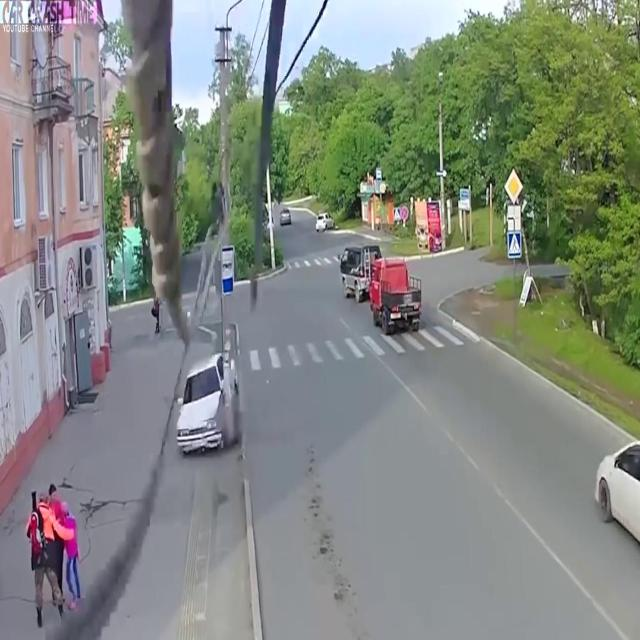accident: (169, 340, 259, 470)
non_accident: (334, 221, 430, 341)
